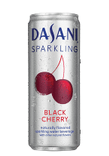blackcherry: (30, 54, 80, 125)
